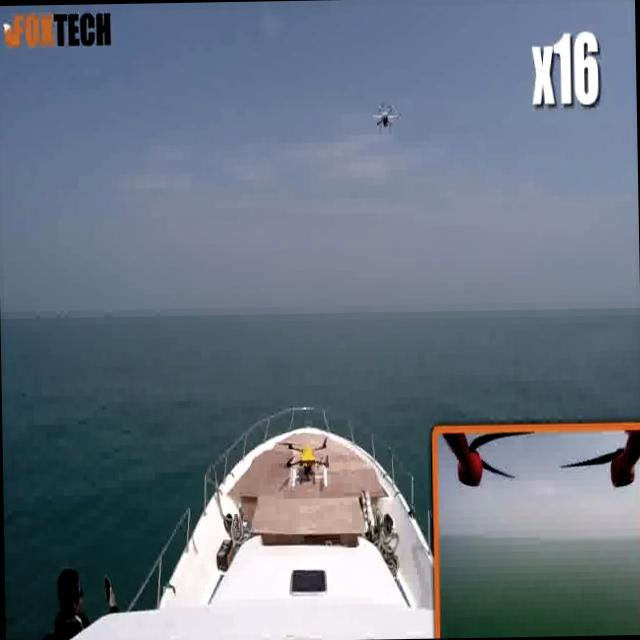drone: (370, 94, 403, 132)
